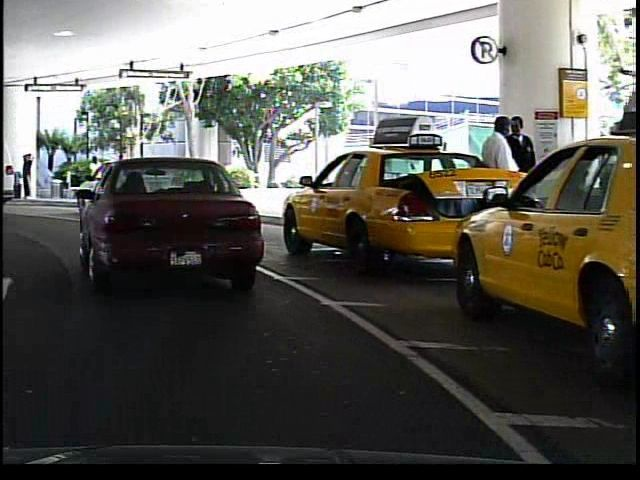person: (477, 111, 519, 245), (503, 112, 545, 242), (82, 152, 106, 197), (16, 144, 34, 203)
